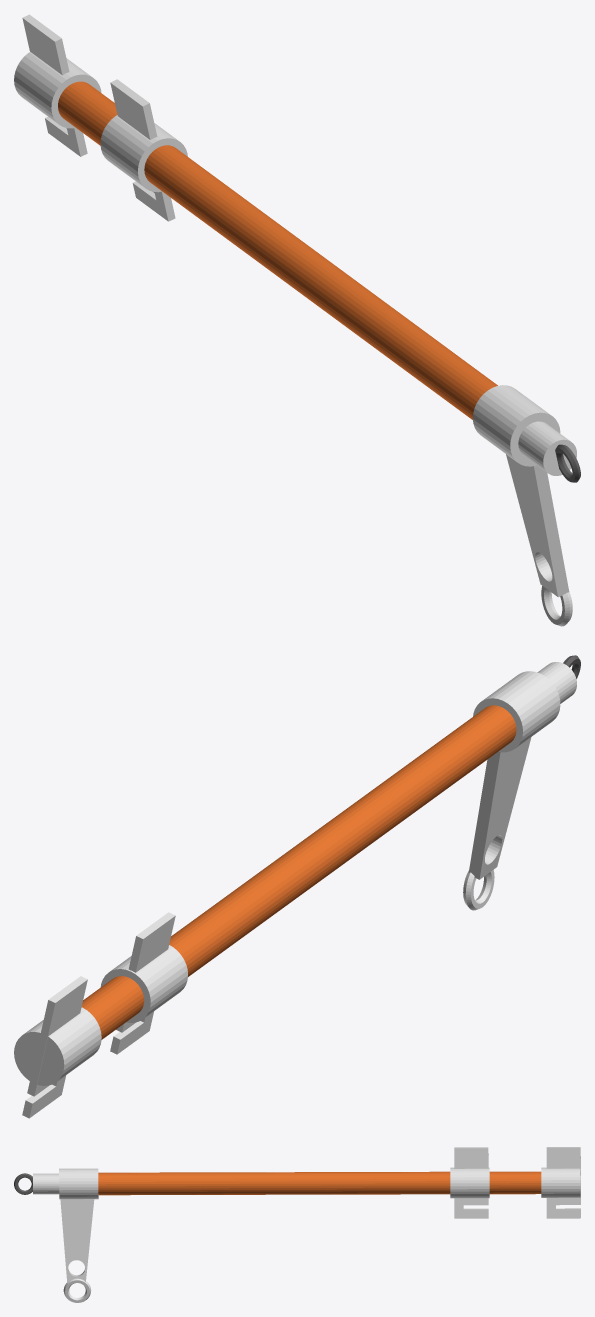
File: MASTRO PARA IÇAMENTO DE CARGAS2.fbx
3 renders of one model, top to bottom at view 1: azimuth 30°, elevation 25°; view 2: azimuth 150°, elevation 25°; view 3: azimuth 270°, elevation 25°, orthographic. The views are drawn at different scales.
Parts seen in each view (by area): view 1: Cilindro, Cubo, Cilindro.001, Cilindro.004, Cilindro.003, Cubo.001, Cubo.002, Cilindro.002; view 2: Cilindro, Cubo, Cilindro.004, Cilindro.001, Cubo.002, Cilindro.003, Cubo.001, Cilindro.002, Torus; view 3: Cilindro, Cubo, Cubo.002, Cubo.001, Cilindro.001, Cilindro.003, Cilindro.004, Cilindro.002, Torus, Torus.001.
Part boxes in pixels (x1,y1,x2,y2): Cilindro: [58, 81, 497, 419]; Cubo: [506, 454, 569, 597]; Cilindro.001: [472, 385, 560, 466]; Cilindro.004: [14, 52, 101, 128]; Cilindro.003: [100, 115, 187, 192]; Cubo.001: [110, 79, 175, 221]; Cubo.002: [22, 14, 87, 156]; Cilindro.002: [518, 421, 576, 475]; Cilindro: [81, 705, 516, 1039]; Cubo: [468, 737, 531, 879]; Cilindro.004: [14, 1007, 101, 1085]; Cilindro.001: [473, 671, 560, 752]; Cubo.002: [22, 976, 87, 1118]; Cilindro.003: [100, 945, 187, 1022]; Cubo.001: [110, 912, 175, 1054]; Cilindro.002: [537, 662, 576, 703]; Torus: [463, 870, 494, 910]; Cilindro: [98, 1171, 541, 1195]; Cubo: [60, 1199, 94, 1282]; Cubo.002: [546, 1147, 580, 1218]; Cubo.001: [454, 1147, 488, 1218]; Cilindro.001: [59, 1168, 98, 1199]; Cilindro.003: [450, 1167, 489, 1198]; Cilindro.004: [541, 1167, 580, 1197]; Cilindro.002: [33, 1173, 59, 1194]; Torus: [63, 1278, 91, 1302]; Torus.001: [14, 1173, 32, 1194].
Bounding box in the file's own units: 73.19 × 278 × 1004.
